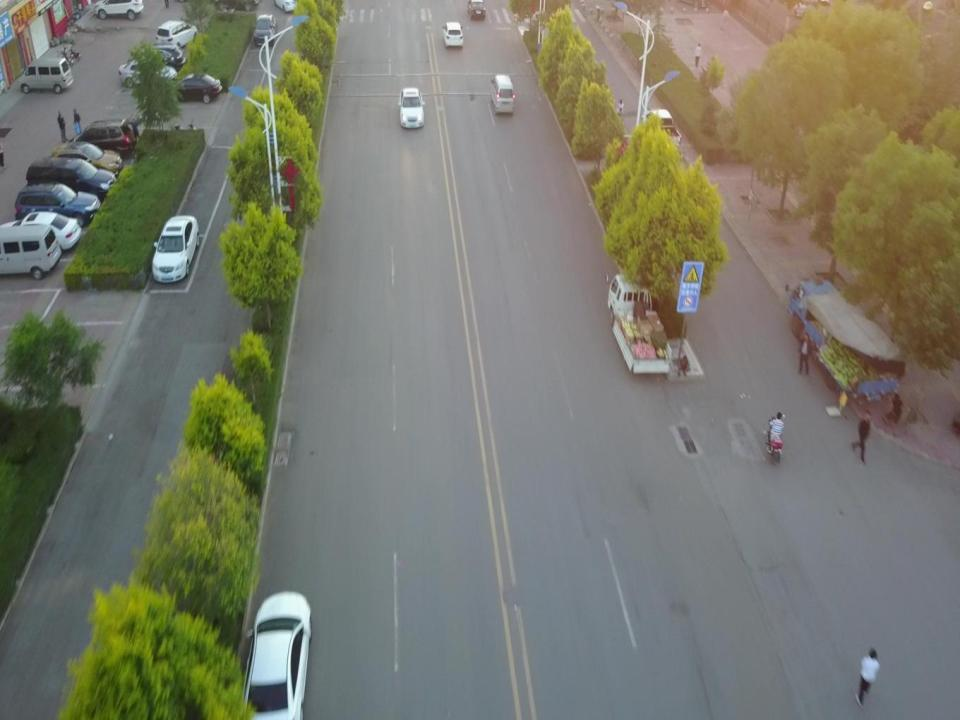car: (238, 589, 314, 720), (25, 156, 115, 198), (14, 181, 99, 224), (150, 216, 199, 284), (68, 114, 148, 153), (0, 211, 79, 248), (44, 140, 123, 176), (125, 42, 185, 76), (118, 57, 177, 90), (171, 72, 221, 103), (397, 84, 424, 130), (154, 20, 198, 46), (94, 0, 146, 20), (252, 15, 276, 47), (440, 22, 466, 48), (467, 0, 487, 20), (276, 0, 308, 12)
truck: (784, 273, 902, 405), (606, 268, 673, 375), (642, 106, 684, 149)
van: (0, 226, 61, 278), (19, 58, 74, 94), (492, 73, 514, 116)
